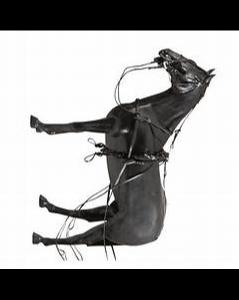horse: (28, 48, 215, 258)
